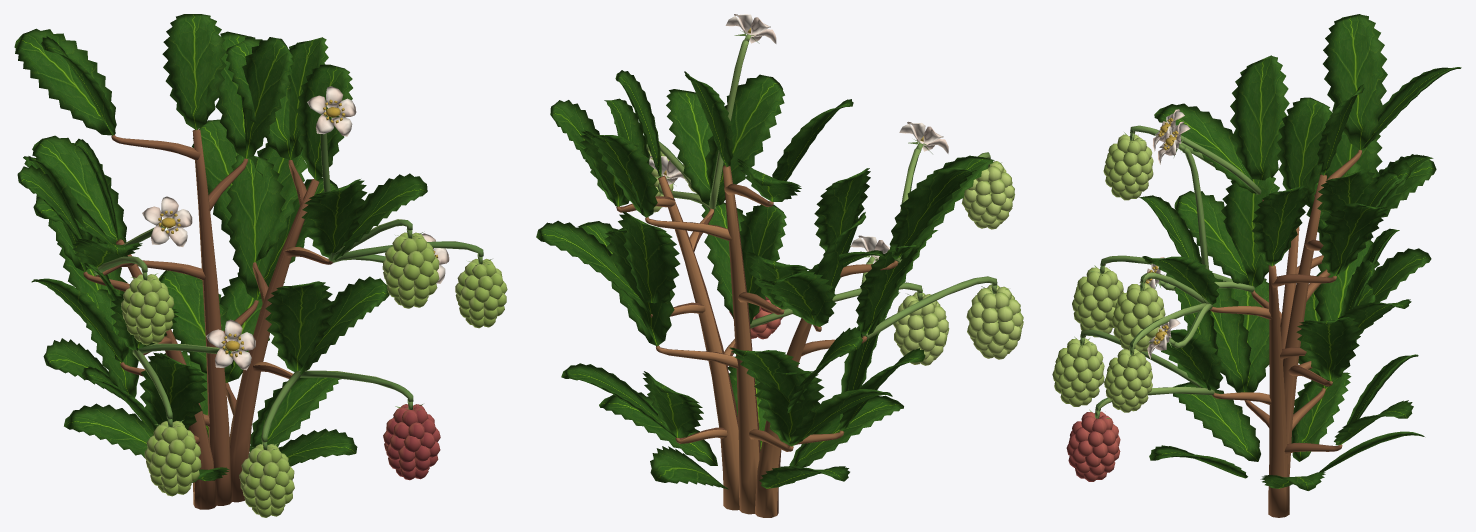
The model's file is NP_Blackberry_Flowering.fbx.
3 renders of one model, left to right at view 1: azimuth 30°, elevation 25°; view 2: azimuth 150°, elevation 25°; view 3: azimuth 270°, elevation 25°, orthographic. The views are drawn at different scales.
Parts seen in each view (by area): view 1: NP_Blackberry_Flowering; view 2: NP_Blackberry_Flowering; view 3: NP_Blackberry_Flowering.
Boxes of the visible parts, <box> form: NP_Blackberry_Flowering: <box>14,14,507,517</box>; NP_Blackberry_Flowering: <box>536,14,1023,517</box>; NP_Blackberry_Flowering: <box>1052,14,1461,517</box>.
Bounding box in the file's own units: 89.21 × 95.08 × 81.83.
